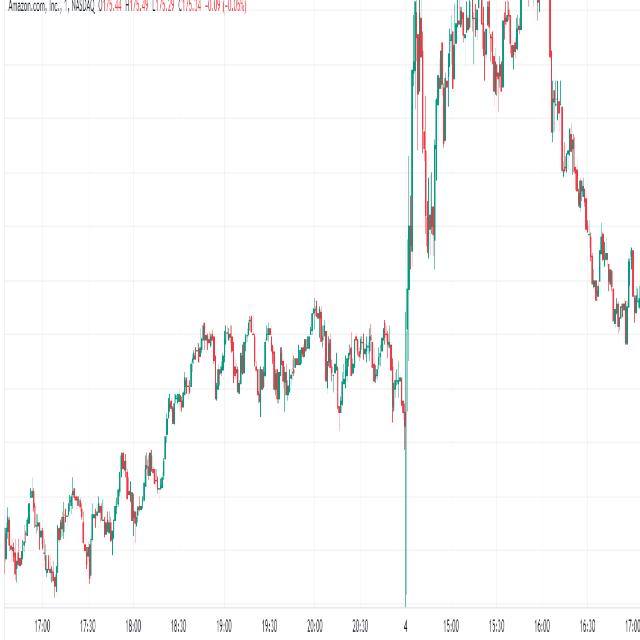Ascending-Triangle: (26, 447, 222, 640)
rectangle: (181, 291, 407, 418)
